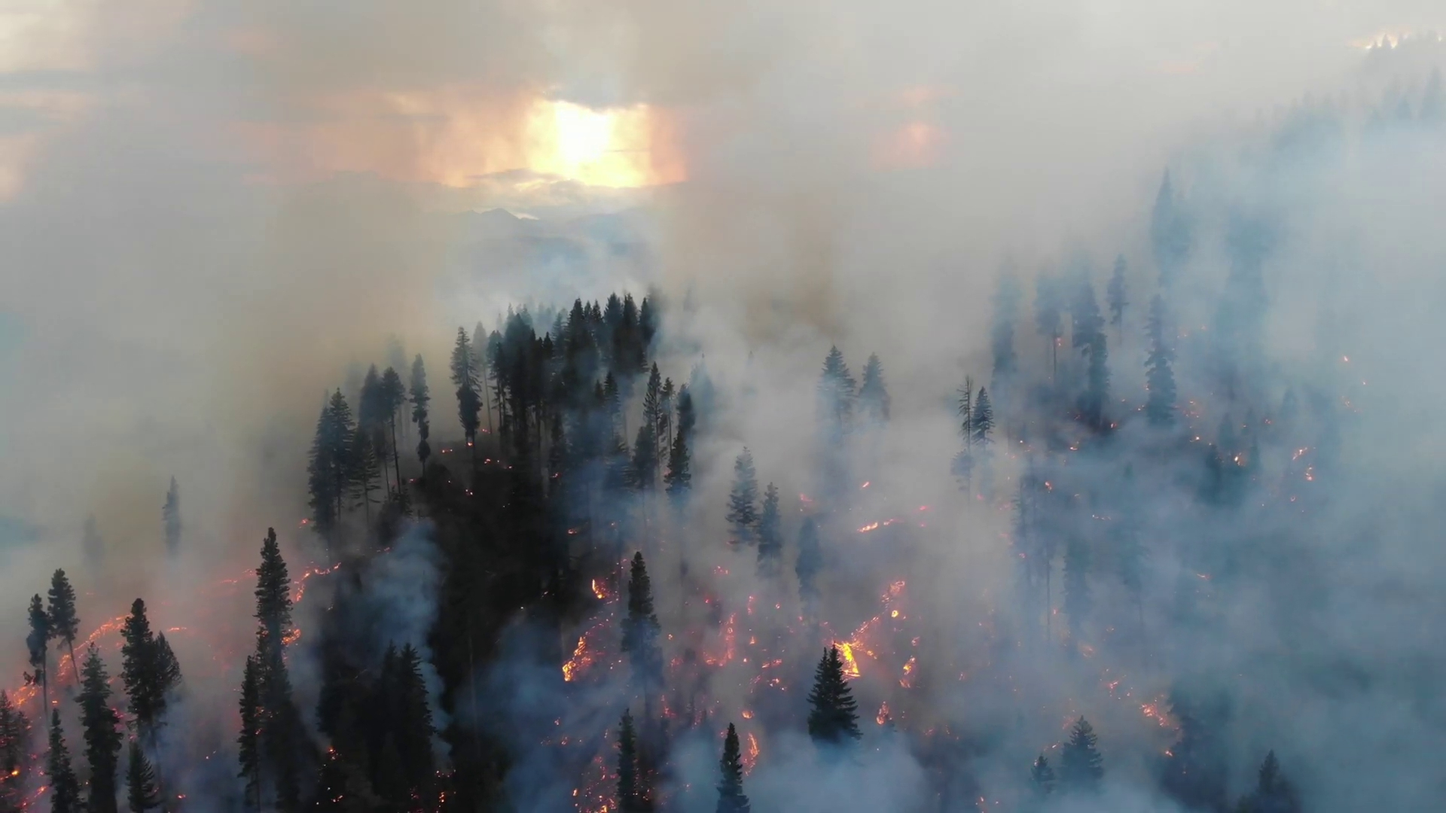forest_fire: (662, 595, 789, 696), (805, 580, 921, 690), (560, 572, 630, 686), (572, 756, 617, 812), (290, 563, 348, 604), (650, 693, 723, 723), (80, 611, 128, 652), (741, 723, 761, 775), (865, 698, 897, 726), (53, 653, 79, 678), (736, 699, 762, 721), (18, 678, 40, 704)
